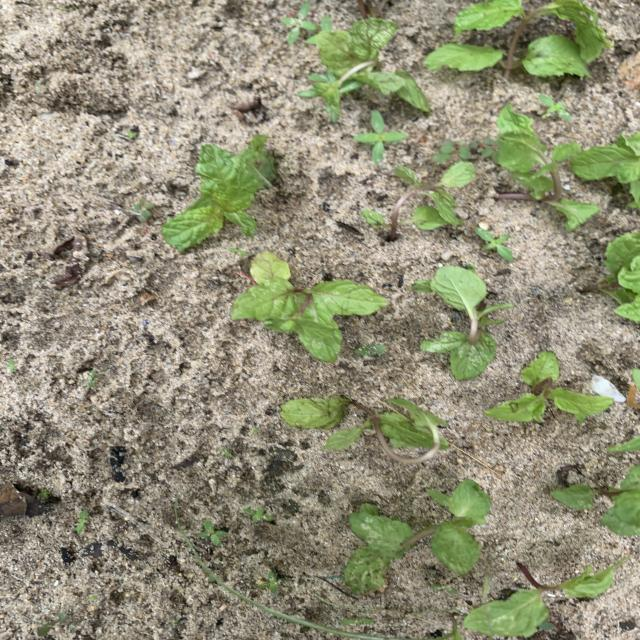crop: (232, 252, 386, 361), (345, 480, 490, 594), (298, 17, 429, 122), (428, 1, 612, 75), (496, 104, 599, 230), (163, 134, 275, 249), (464, 562, 618, 636), (416, 265, 512, 378), (280, 398, 448, 460), (485, 353, 611, 422), (363, 164, 473, 236), (551, 466, 639, 535), (569, 132, 639, 207), (585, 233, 639, 321)
weed: (356, 112, 406, 162), (283, 2, 316, 43), (477, 228, 512, 259), (434, 141, 473, 162), (198, 520, 227, 545), (540, 95, 570, 119), (258, 571, 287, 591), (471, 138, 499, 155), (244, 508, 275, 522), (133, 199, 154, 218), (355, 344, 387, 355), (340, 618, 374, 626), (76, 510, 87, 532), (432, 584, 456, 594), (37, 489, 51, 503), (86, 371, 99, 386), (230, 248, 246, 255), (8, 359, 15, 371), (220, 449, 231, 456)
